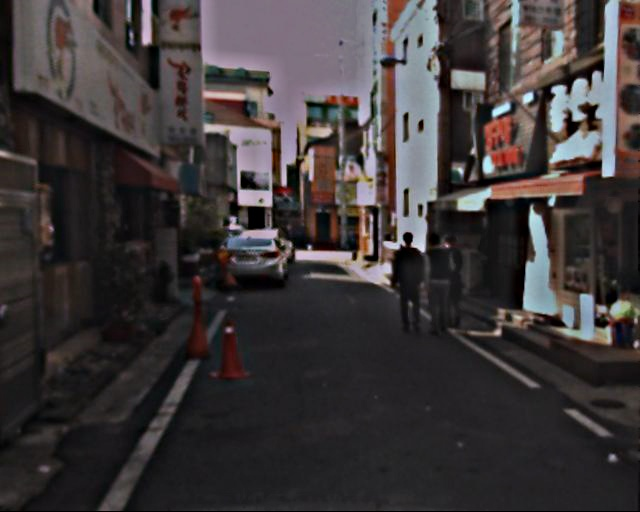person: (393, 231, 435, 333), (421, 234, 461, 332), (438, 233, 477, 329)
